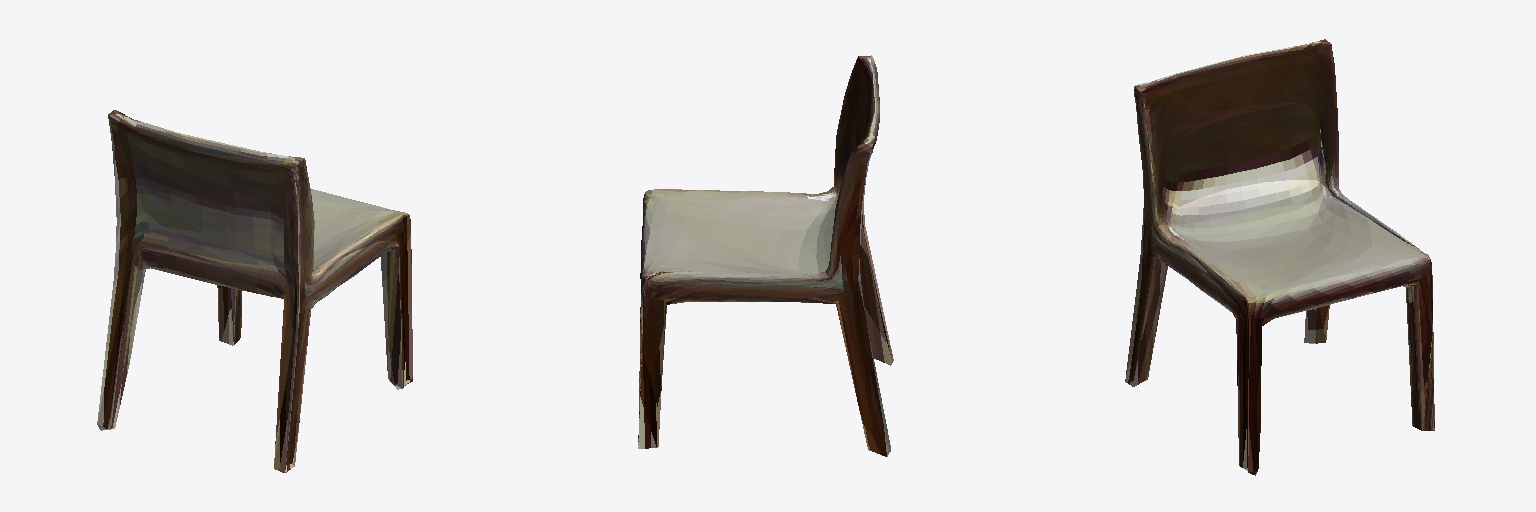
3 views of the same model, side by side, from view 1: azimuth 30°, elevation 25°; view 2: azimuth 150°, elevation 25°; view 3: azimuth 270°, elevation 25° (orthographic).
Bounding box in the file's own units: 0.9434 × 1 × 0.8961.
Materials: 1 (1 with a texture image).